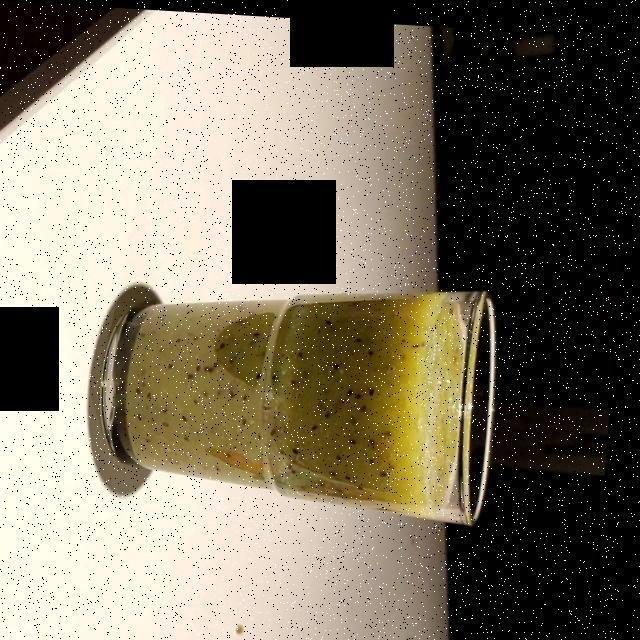smoothie: (145, 291, 445, 503)
